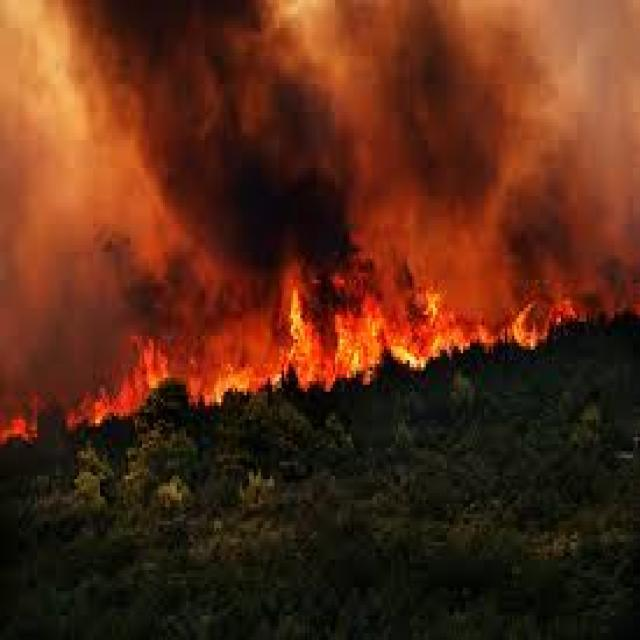Fire: (0, 210, 640, 460)
Smoke: (48, 0, 526, 209)
